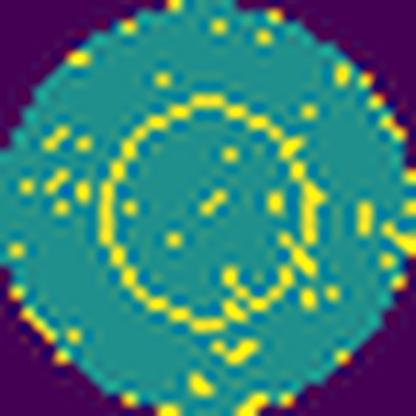Donut: (86, 79, 336, 338)
